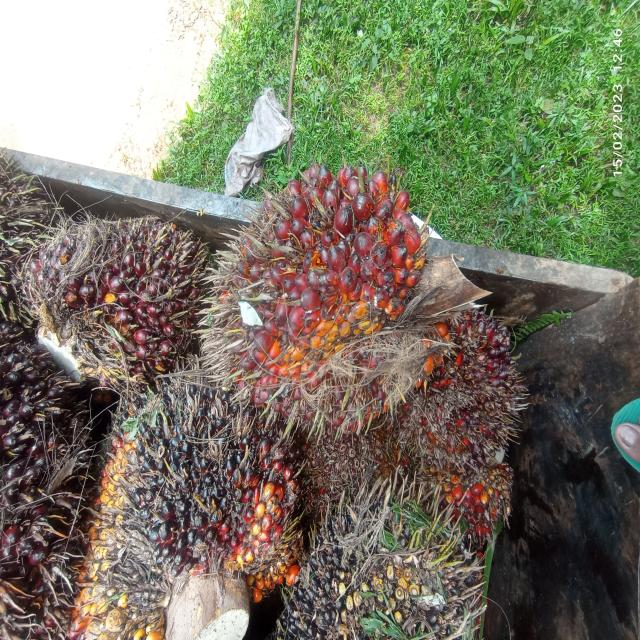fraksi 00: (101, 342, 304, 638), (19, 150, 245, 394), (275, 455, 489, 640)
fraksi 3: (155, 106, 479, 439)
